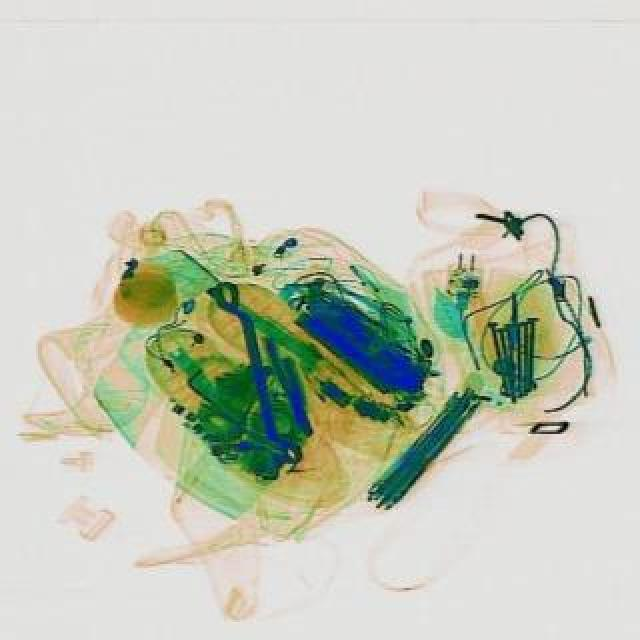scissors: (204, 276, 304, 468)
wrench: (262, 332, 318, 440)
